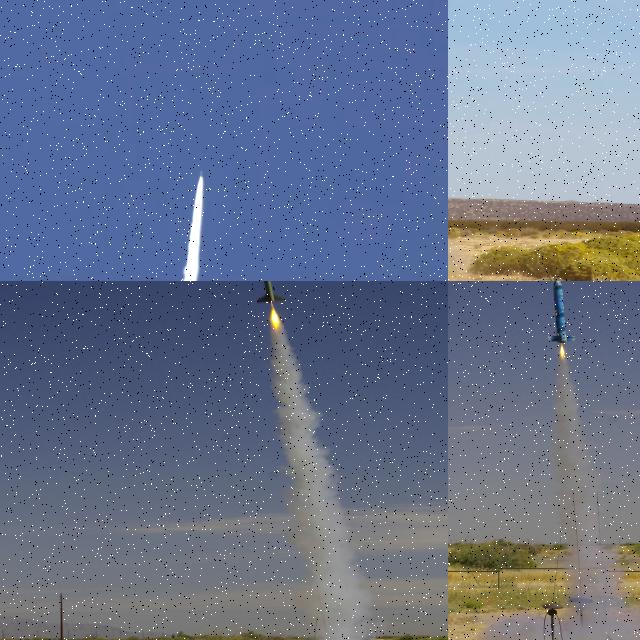Rocket: (547, 281, 575, 343), (255, 281, 285, 303), (200, 170, 203, 180)
